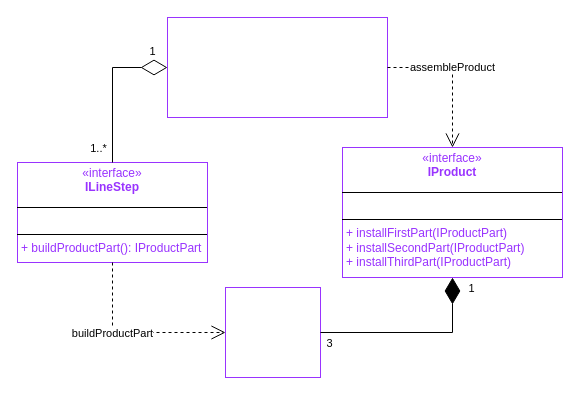
This 580x395 diagram has some shape labels left out. Each missing label, with the centre of its shape:
"«interface » IAssemblyLIne + assembleProduct(Product): IProduct" belongs at (277,67).
"«interface » IProductPart" belongs at (272,332).
